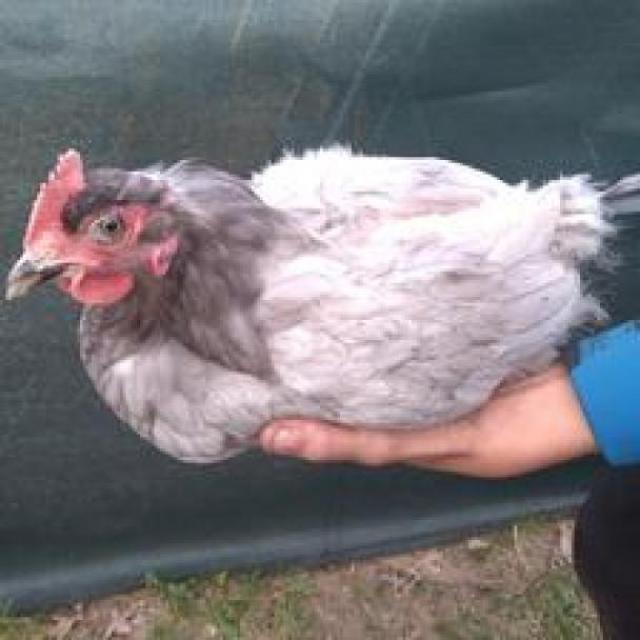Chicken: (6, 91, 640, 469)
